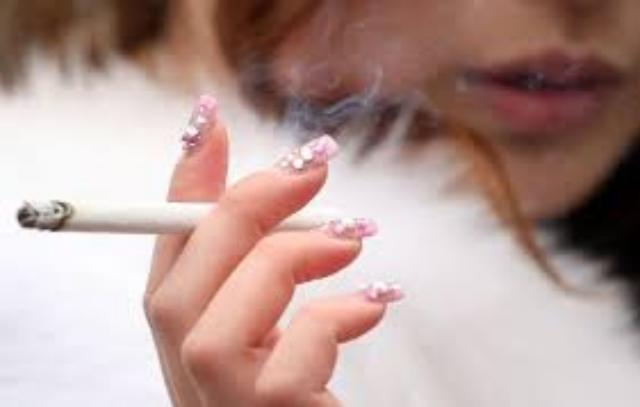Cigarette: (15, 198, 313, 238)
